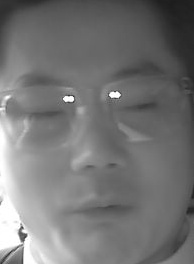glass: (100, 72, 187, 142), (2, 85, 85, 148)
mouth: (64, 193, 132, 225)
